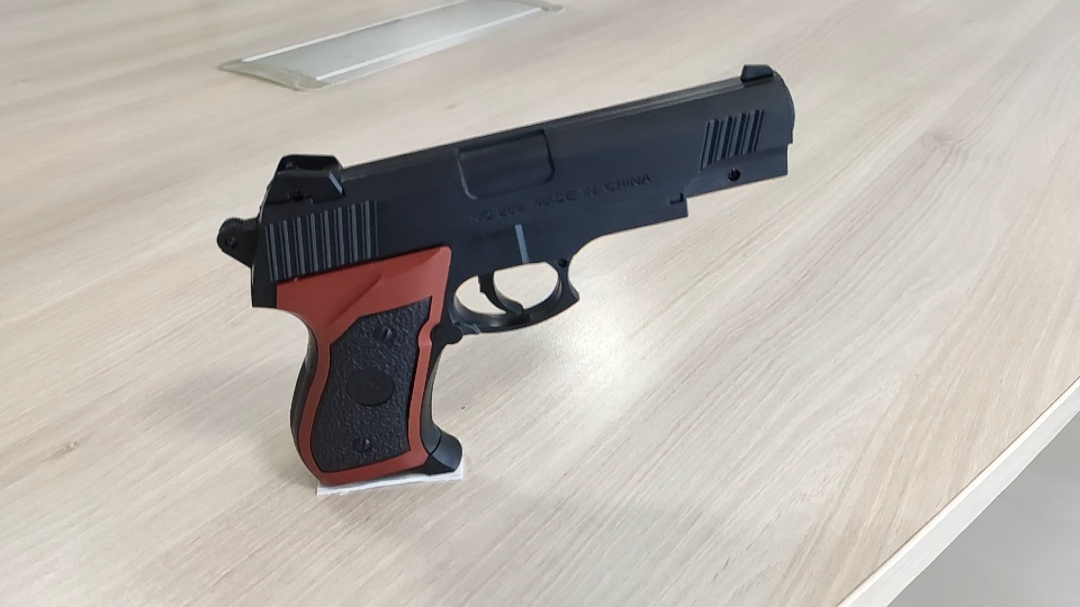gun: (216, 63, 800, 492)
